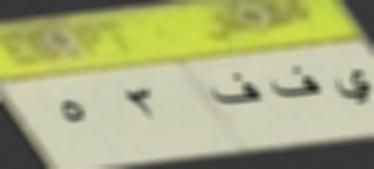3: (121, 86, 159, 123)
5: (57, 95, 91, 128)
faa: (203, 69, 260, 110), (268, 62, 324, 100)
yaa: (334, 67, 374, 110)
